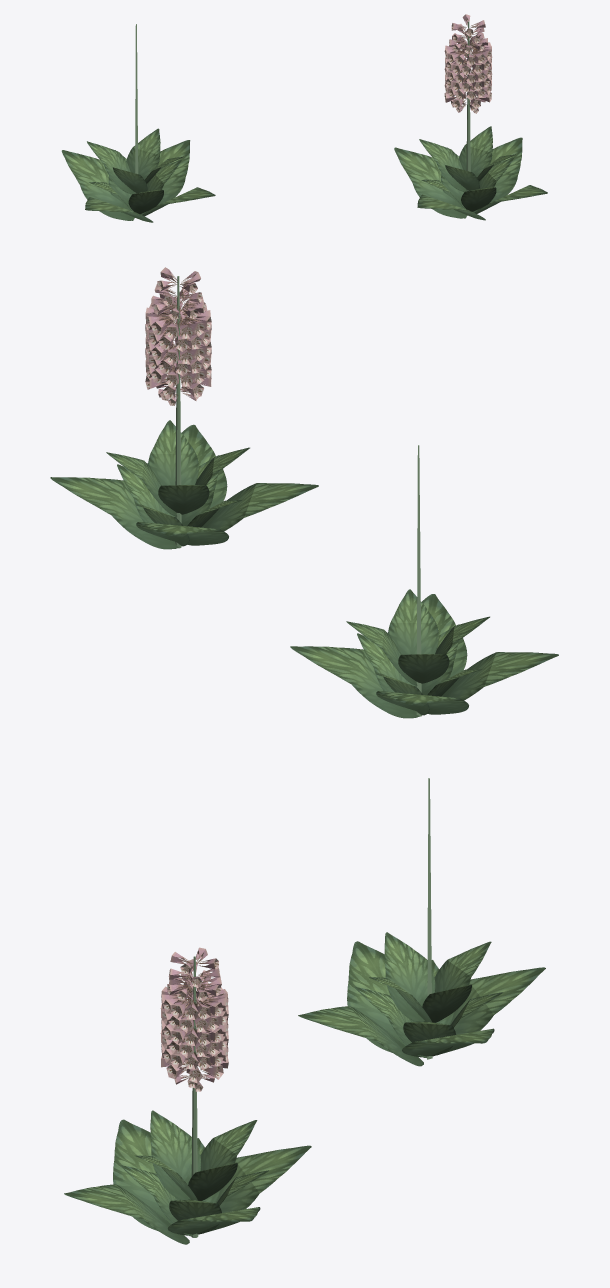
Rendered from MoreFlowersSadHighPoly.fbx.
3 views of the same model, one above another, from view 1: azimuth 30°, elevation 25°; view 2: azimuth 150°, elevation 25°; view 3: azimuth 270°, elevation 25° (orthographic). The views are drawn at different scales.
Visible parts, largest first — view 1: LeafesCurve.033, LeafesCurve.014, LeafesCurve.013, LeafesCurve.034, LeafesCurve.035, LeafesCurve.012, Curve.100, Curve.099, Curve.091, Curve.097, Curve.095, Stem.003 (+3 smaller); view 2: LeafesCurve.014, LeafesCurve.033, LeafesCurve.013, LeafesCurve.034, LeafesCurve.012, LeafesCurve.035, Curve.100, Curve.099, Curve.091, Curve.097, Stem.007, Curve.095 (+3 smaller); view 3: LeafesCurve.014, LeafesCurve.033, LeafesCurve.013, LeafesCurve.034, LeafesCurve.012, LeafesCurve.035, Curve.100, Curve.099, Curve.091, Curve.096, Curve.097, Curve.095 (+3 smaller).
Part boxes in pixels (x1=…): LeafesCurve.033: x1=394, y1=137, x2=547, y2=220; LeafesCurve.014: x1=61, y1=140, x2=215, y2=222; LeafesCurve.013: x1=87, y1=128, x2=183, y2=194; LeafesCurve.034: x1=419, y1=126, x2=515, y2=192; LeafesCurve.035: x1=421, y1=147, x2=514, y2=211; LeafesCurve.012: x1=89, y1=150, x2=181, y2=213; Curve.100: x1=444, y1=38, x2=491, y2=65; Curve.099: x1=445, y1=48, x2=492, y2=74; Curve.091: x1=444, y1=58, x2=491, y2=83; Curve.097: x1=444, y1=74, x2=491, y2=100; Curve.095: x1=445, y1=64, x2=492, y2=91; Stem.003: x1=135, y1=24, x2=138, y2=193; LeafesCurve.014: x1=290, y1=594, x2=558, y2=718; LeafesCurve.033: x1=50, y1=424, x2=318, y2=549; LeafesCurve.013: x1=346, y1=589, x2=489, y2=685; LeafesCurve.034: x1=106, y1=420, x2=249, y2=516; LeafesCurve.012: x1=357, y1=624, x2=481, y2=715; LeafesCurve.035: x1=117, y1=455, x2=241, y2=546; Curve.100: x1=145, y1=297, x2=211, y2=339; Curve.099: x1=145, y1=310, x2=211, y2=351; Curve.091: x1=145, y1=323, x2=211, y2=364; Curve.097: x1=145, y1=346, x2=211, y2=387; Stem.007: x1=175, y1=276, x2=181, y2=548; Curve.095: x1=145, y1=335, x2=211, y2=375; LeafesCurve.014: x1=298, y1=941, x2=545, y2=1066; LeafesCurve.033: x1=64, y1=1119, x2=311, y2=1244; LeafesCurve.013: x1=369, y1=932, x2=491, y2=1022; LeafesCurve.034: x1=135, y1=1110, x2=257, y2=1200; LeafesCurve.012: x1=354, y1=960, x2=502, y2=1057; LeafesCurve.035: x1=120, y1=1138, x2=268, y2=1236; Curve.100: x1=161, y1=981, x2=228, y2=1020; Curve.099: x1=160, y1=993, x2=228, y2=1032; Curve.091: x1=161, y1=1015, x2=228, y2=1046; Curve.096: x1=167, y1=970, x2=221, y2=1001; Curve.097: x1=161, y1=1031, x2=228, y2=1069; Curve.095: x1=160, y1=1027, x2=228, y2=1057.
Bounding box in the file's own units: 252 × 101 × 188.
